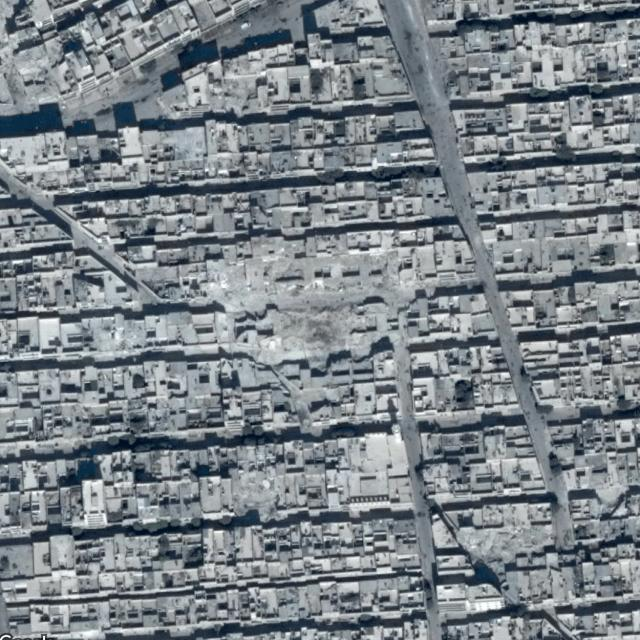damaged_building: (201, 246, 415, 368), (454, 522, 554, 570), (205, 51, 268, 118), (228, 474, 280, 518)
